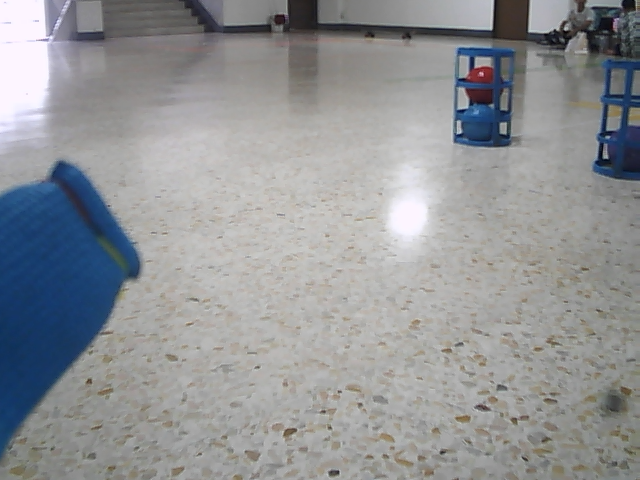Blue ball: (460, 104, 496, 141)
Cyro: (450, 44, 517, 149), (591, 56, 640, 182)
Purple ball: (607, 125, 640, 172)
Red ball: (466, 66, 505, 104)
